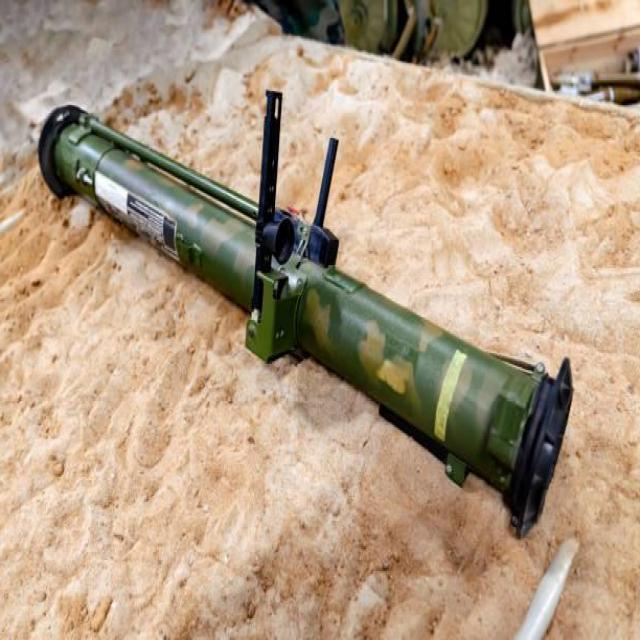rocket: (42, 94, 576, 544)
